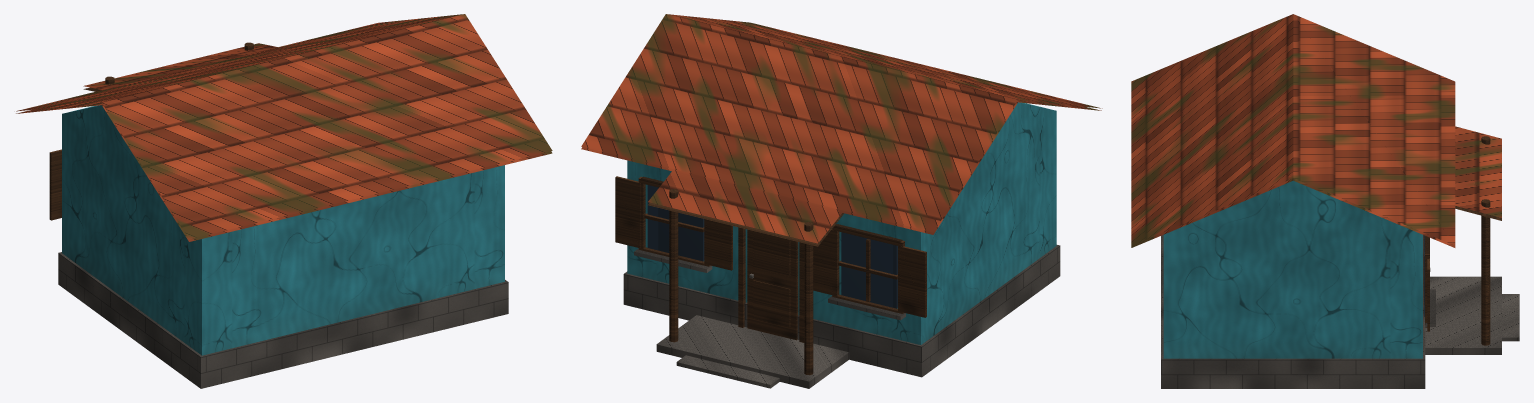
Rendered from casa_a.obj.
3 renders of one model, left to right at view 1: azimuth 30°, elevation 25°; view 2: azimuth 150°, elevation 25°; view 3: azimuth 270°, elevation 25°, orthographic. The views are drawn at different scales.
Parts seen in each view (by area): view 1: casa_a; view 2: casa_a; view 3: casa_a.
Part boxes in pixels (x1,y1,x2,y2): casa_a: [16, 14, 552, 388]; casa_a: [581, 14, 1102, 388]; casa_a: [1131, 14, 1519, 388].
Bounding box in the file's own units: 6 × 3.8 × 5.99.
Materials: 5 (5 with a texture image).
